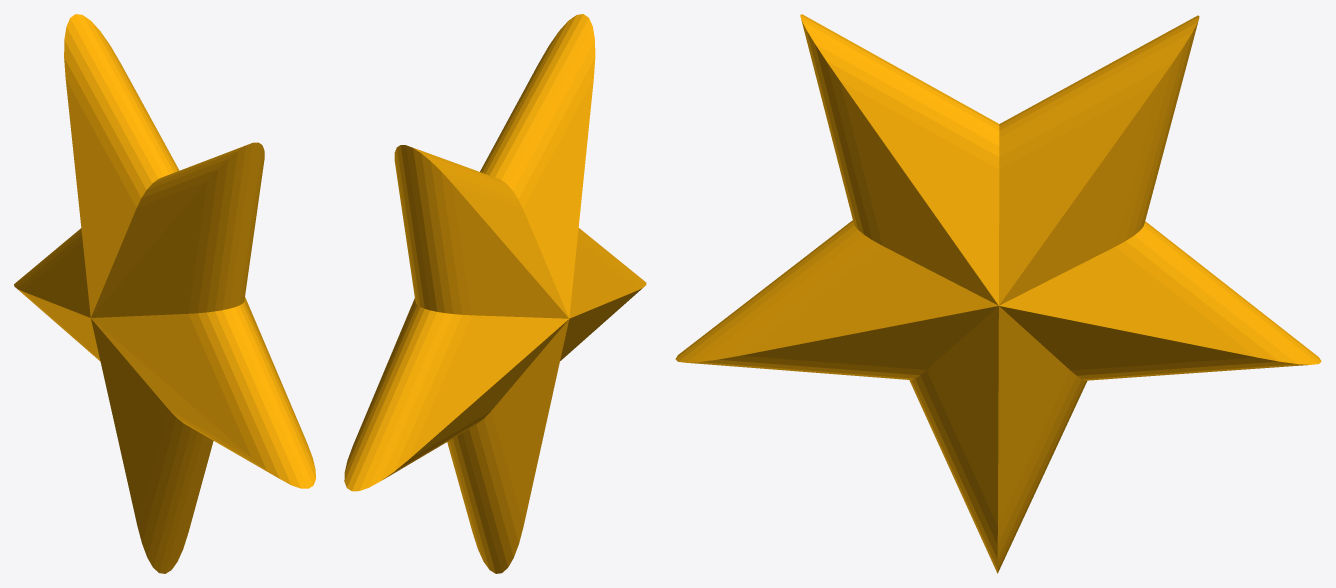
The model's file is statc yellow star.fbx.
3 views of the same model, side by side, from view 1: azimuth 30°, elevation 25°; view 2: azimuth 150°, elevation 25°; view 3: azimuth 270°, elevation 25° (orthographic). The views are drawn at different scales.
Parts seen in each view (by area): view 1: Circle; view 2: Circle; view 3: Circle.
Part boxes in pixels (x1,y1,x2,y2): Circle: (14,14,315,573); Circle: (344,14,646,573); Circle: (675,14,1321,573).
Bounding box in the file's own units: 148 × 141 × 44.09.
